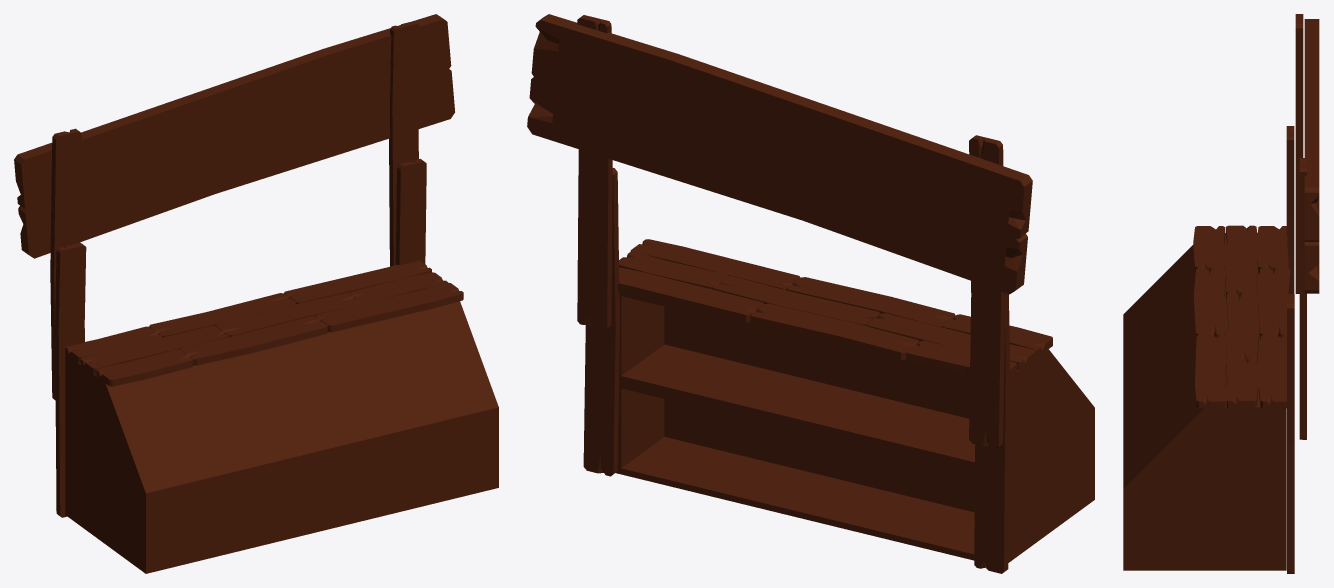
Rendered from MarketStall_Lemonade_Stall.fbx.
The picture shows the model from 3 angles, left to right: view 1: azimuth 30°, elevation 25°; view 2: azimuth 150°, elevation 25°; view 3: azimuth 270°, elevation 25°; orthographic projection. The views are drawn at different scales.
Parts seen in each view (by area): view 1: LemonadeStall, WoodenPlank030, WoodenPlank029, WoodenPlank026, WoodenPlank028, WoodenPlank027, WoodenPlank035, WoodenPlank036, WoodenPlank033, WoodenPlank034, WoodenPlank031, WoodenPlank032 (+3 smaller); view 2: LemonadeStall, LemonadeStall_Sign, WoodenPlank030, WoodenPlank029, WoodenPlank028, WoodenPlank027, WoodenPlank026, WoodenPlank032, WoodenPlank031, WoodenPlank036, WoodenPlank034, WoodenPlank035 (+4 smaller); view 3: LemonadeStall, WoodenPlank030, WoodenPlank035, WoodenPlank027, WoodenPlank036, WoodenPlank033, WoodenPlank034, WoodenPlank031, WoodenPlank032, WoodenPlank029, WoodenPlank028, WoodenPlank037 (+3 smaller).
Boxes of the visible parts, x1,y1,x2,y2 form: LemonadeStall: (65,301,498,573); WoodenPlank030: (14,14,454,258); WoodenPlank029: (389,21,419,266); WoodenPlank026: (55,242,86,517); WoodenPlank028: (50,128,81,400); WoodenPlank027: (395,158,426,265); WoodenPlank035: (315,282,463,332); WoodenPlank036: (181,316,327,365); WoodenPlank033: (80,326,228,375); WoodenPlank034: (216,292,362,336); WoodenPlank031: (284,260,431,303); WoodenPlank032: (149,293,296,337); LemonadeStall: (615,291,1094,562); LemonadeStall_Sign: (552,35,1011,280); WoodenPlank030: (527,14,1032,294); WoodenPlank029: (577,15,612,330); WoodenPlank028: (969,135,1005,449); WoodenPlank027: (583,168,619,476); WoodenPlank026: (974,293,1009,573); WoodenPlank032: (750,303,919,360); WoodenPlank031: (617,267,763,322); WoodenPlank036: (787,277,955,327); WoodenPlank034: (712,275,879,326); WoodenPlank035: (630,239,800,290); LemonadeStall: (1123,233,1286,570); WoodenPlank030: (1304,19,1319,293); WoodenPlank035: (1195,334,1226,408); WoodenPlank027: (1287,294,1294,573); WoodenPlank036: (1193,267,1226,339); WoodenPlank033: (1226,225,1258,298); WoodenPlank034: (1226,292,1259,364); WoodenPlank031: (1259,334,1286,408); WoodenPlank032: (1258,267,1290,339); WoodenPlank029: (1299,158,1306,439); WoodenPlank028: (1295,14,1303,293); WoodenPlank037: (1226,358,1258,407).
Size of the model in its own units: 1692 by 1495 by 654.
